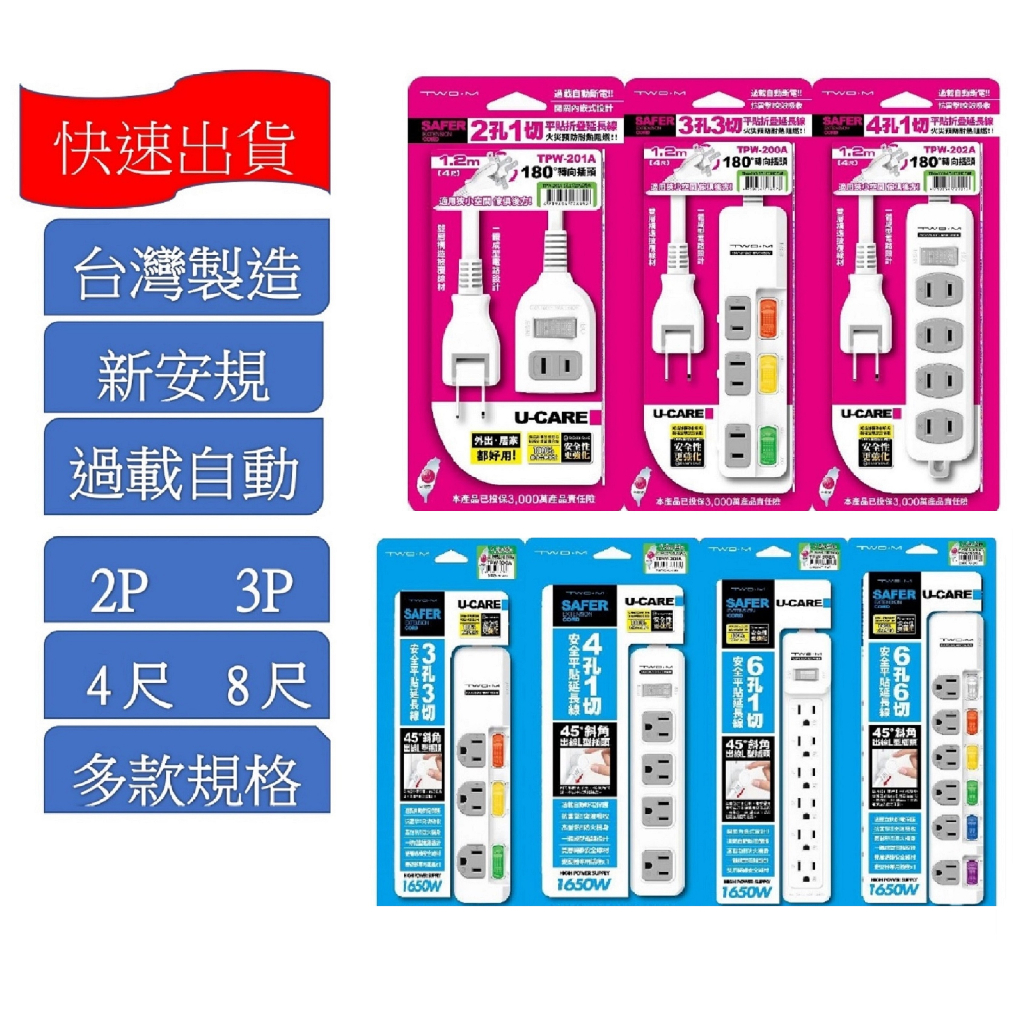socket: (717, 196, 790, 482), (906, 195, 975, 481), (926, 613, 987, 905), (626, 649, 687, 898), (452, 650, 511, 905), (511, 229, 599, 395), (780, 633, 833, 905)
